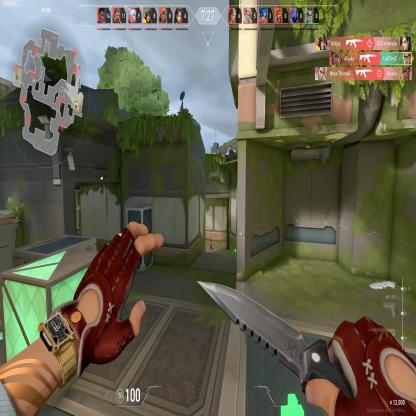enemy: (208, 231, 215, 253)
